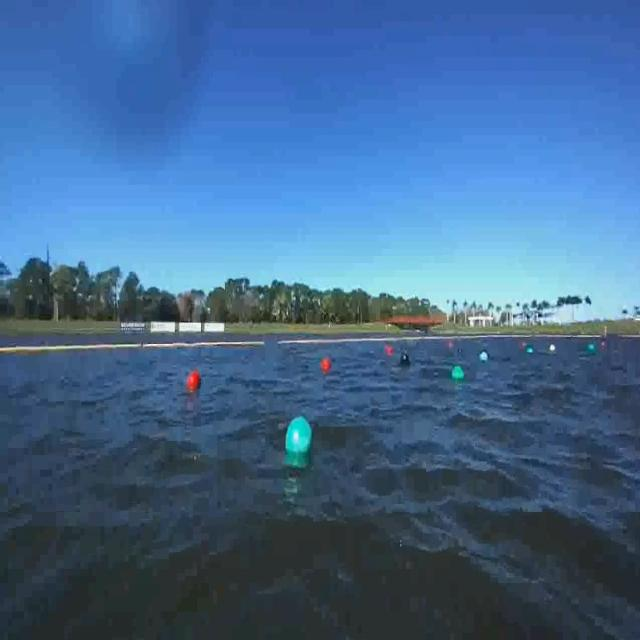black-buoy: (402, 353, 412, 367)
green-buoy: (285, 418, 313, 457), (450, 365, 462, 380)
red-buoy: (189, 370, 204, 390), (321, 358, 331, 372)
